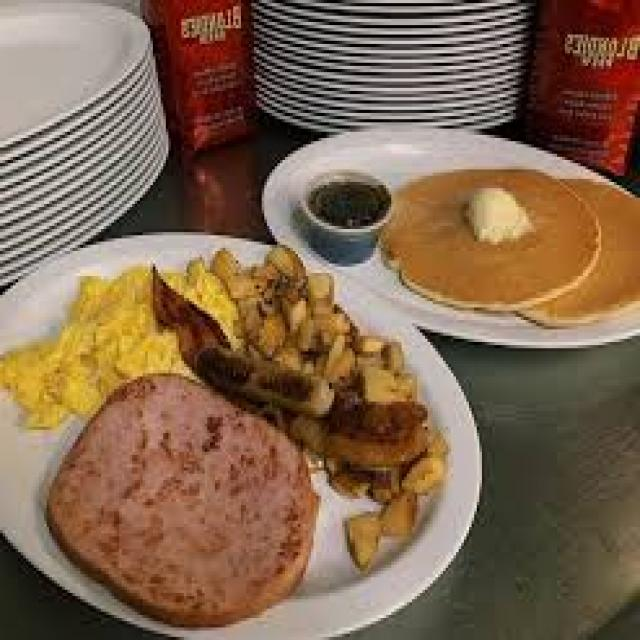Omelette: (2, 257, 230, 424)
Pancakes: (384, 160, 628, 330)
